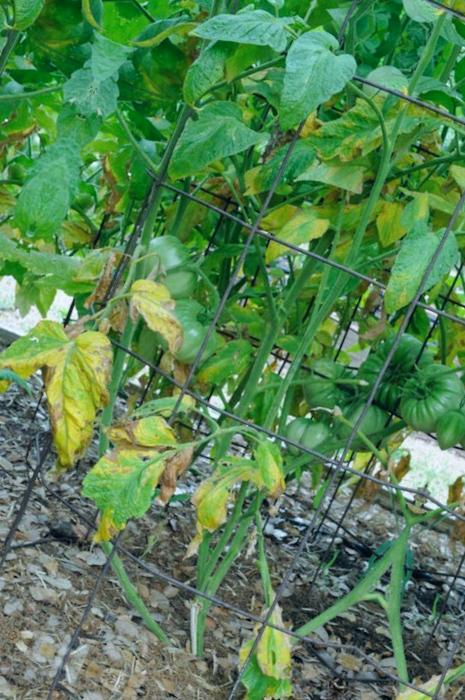Tomato Early blight leaf: (168, 422, 312, 582), (63, 401, 202, 566), (18, 317, 134, 468), (111, 271, 208, 371), (261, 201, 333, 280), (365, 192, 418, 253)
Tomato leaf: (258, 23, 364, 153), (164, 84, 265, 199), (195, 0, 295, 65)
